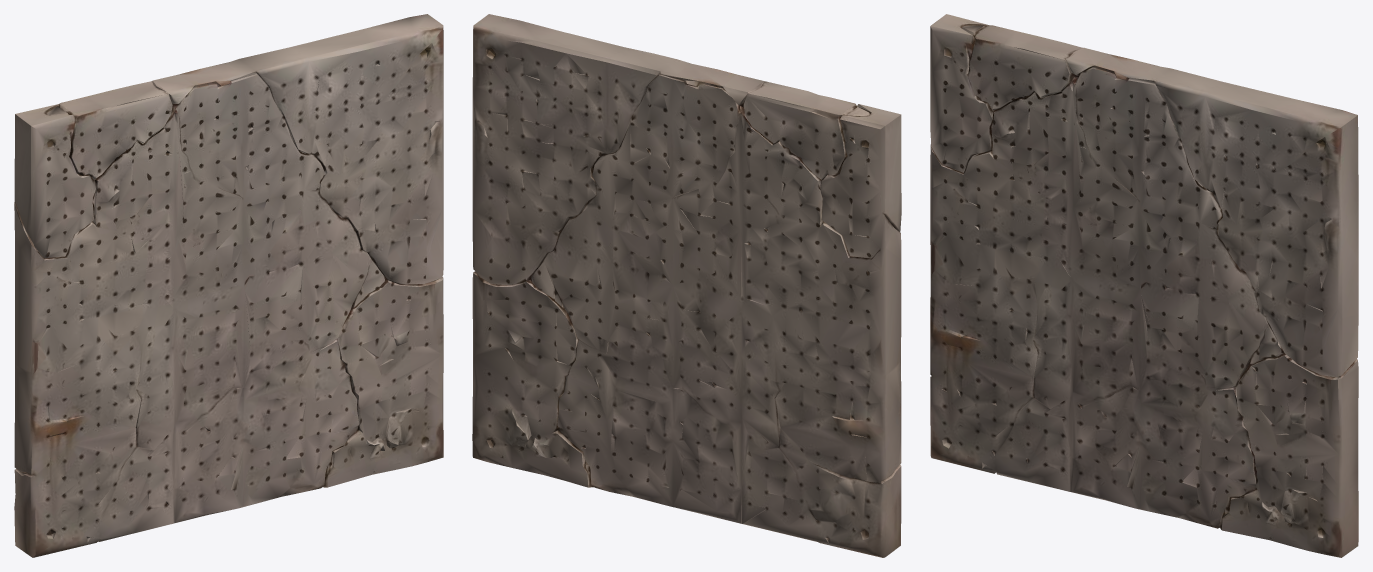
File: finish_metal_damaged_idle.glb
The picture shows the model from 3 angles, left to right: view 1: azimuth 30°, elevation 25°; view 2: azimuth 150°, elevation 25°; view 3: azimuth 330°, elevation 25°; orthographic projection.
Visible parts, largest first — view 1: tripo_node_7855f3a5-e104-420f-93cf-e4b8658a9700; view 2: tripo_node_7855f3a5-e104-420f-93cf-e4b8658a9700; view 3: tripo_node_7855f3a5-e104-420f-93cf-e4b8658a9700.
Boxes of the visible parts, x1=… form: tripo_node_7855f3a5-e104-420f-93cf-e4b8658a9700: x1=14, y1=14, x2=443, y2=557; tripo_node_7855f3a5-e104-420f-93cf-e4b8658a9700: x1=472, y1=14, x2=901, y2=557; tripo_node_7855f3a5-e104-420f-93cf-e4b8658a9700: x1=930, y1=14, x2=1358, y2=557.
Size of the model in its own units: 0.9989 by 0.9996 by 0.1004.
1 material, 1 textured.
